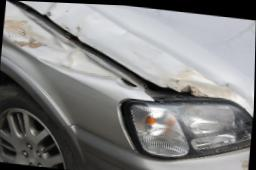Bonnet: (11, 0, 254, 118)
Fender: (2, 2, 155, 101)
